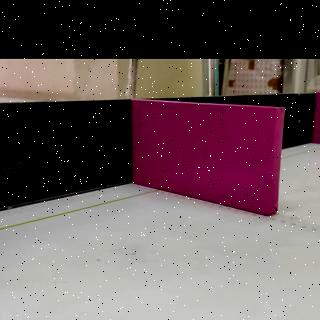xparking: (134, 108, 274, 214)
